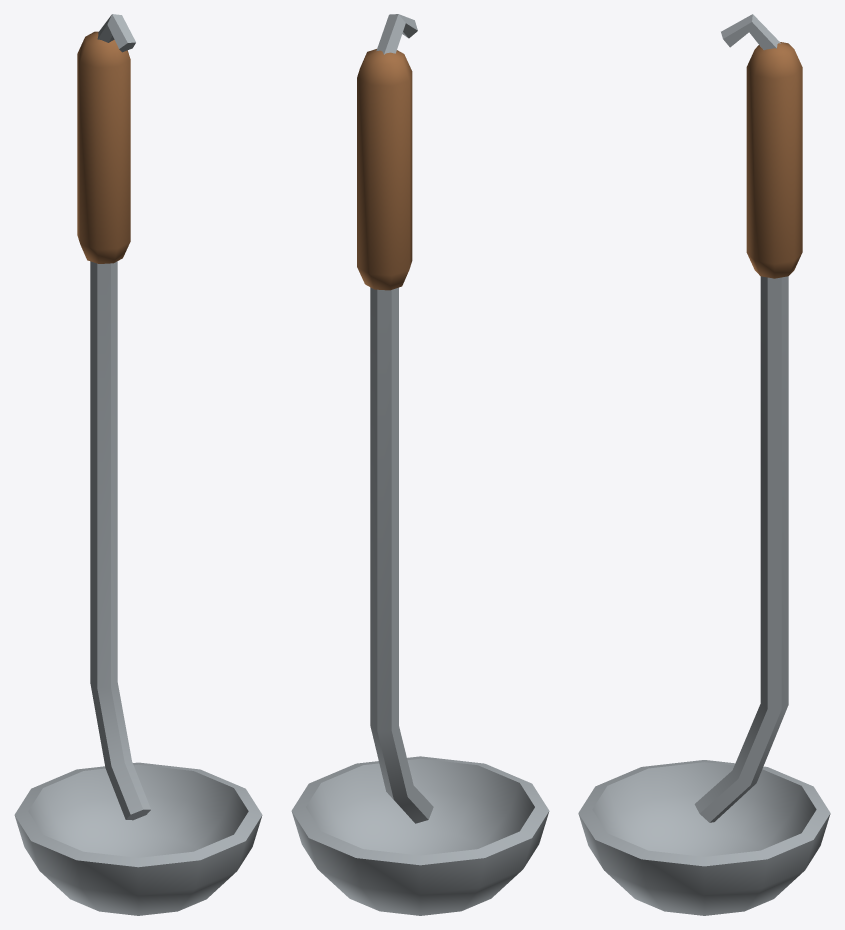
Rendered from ladle.glb.
3 views of the same model, side by side, from view 1: azimuth 30°, elevation 25°; view 2: azimuth 150°, elevation 25°; view 3: azimuth 270°, elevation 25° (orthographic). The views are drawn at different scales.
Visible parts, largest first — view 1: ladle; view 2: ladle; view 3: ladle.
Boxes of the visible parts, x1,y1,x2,y2 form: ladle: (14,14,262,915); ladle: (291,14,549,915); ladle: (578,14,830,915).
Bounding box in the file's own units: 0.126 × 0.4846 × 0.126.
